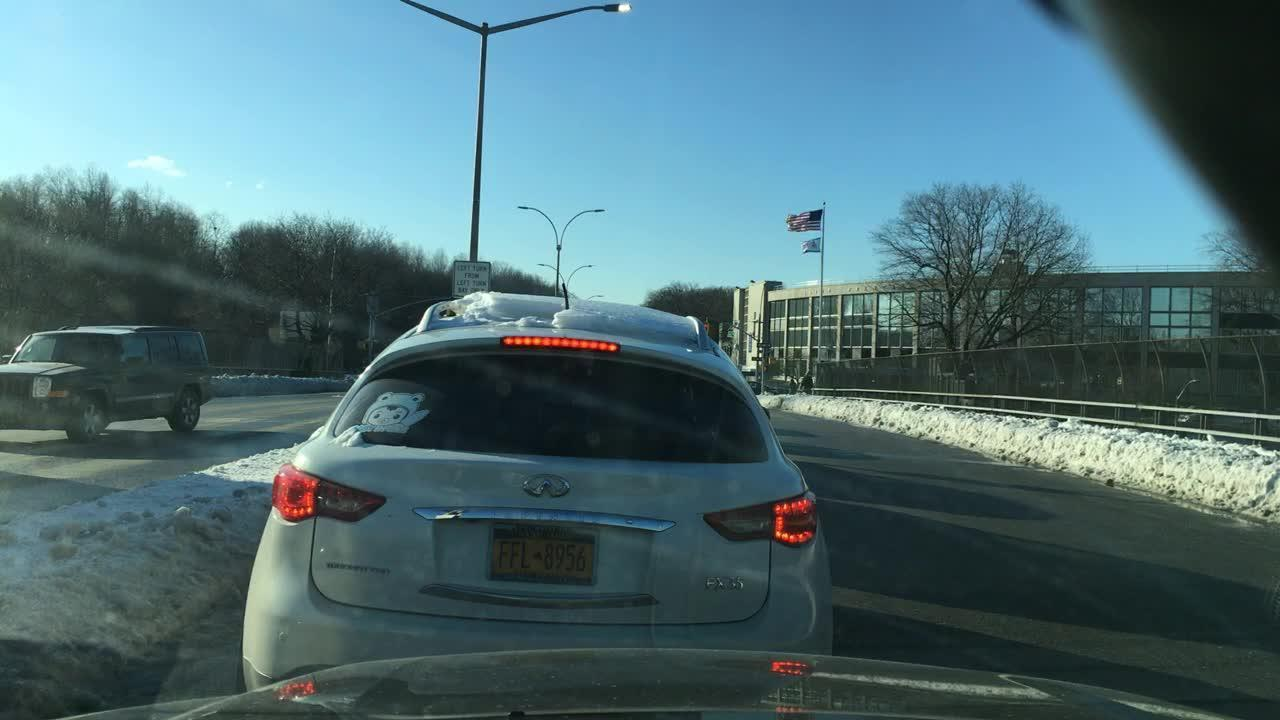Infiniti: (515, 463, 583, 508)
